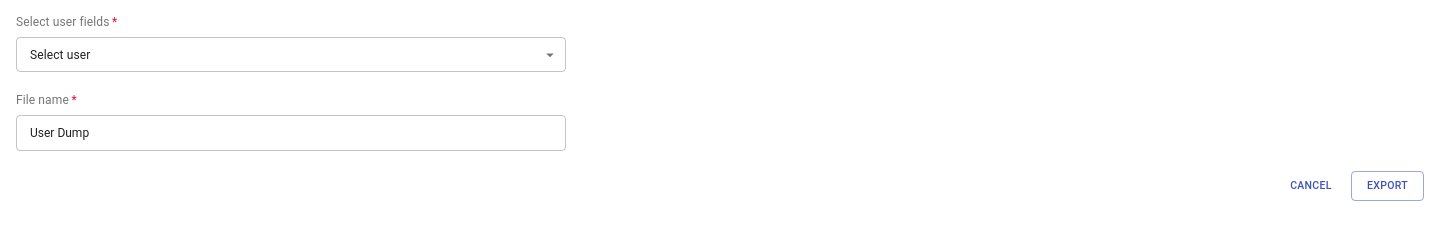
Scenario: UserDump › shows validation errors when submitting empty form
This screenshot has width=1432, height=237.
Click the button "Export": (1388, 186) [1351,170,1424,201]
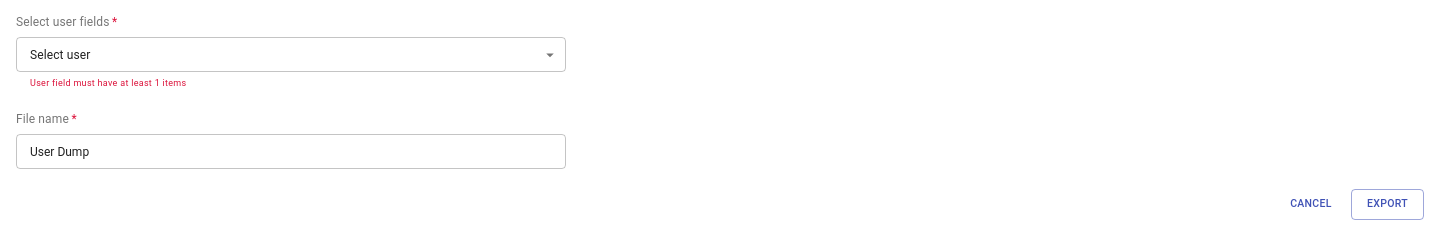
Check: the text "User field must have at least 1 items" is shown, box [30,78,186,88]
